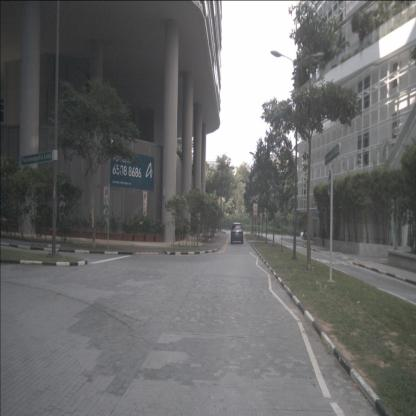human-pedestrian-adult: (321, 224, 325, 247)
vehicle-car: (231, 223, 243, 244), (300, 229, 314, 240)
